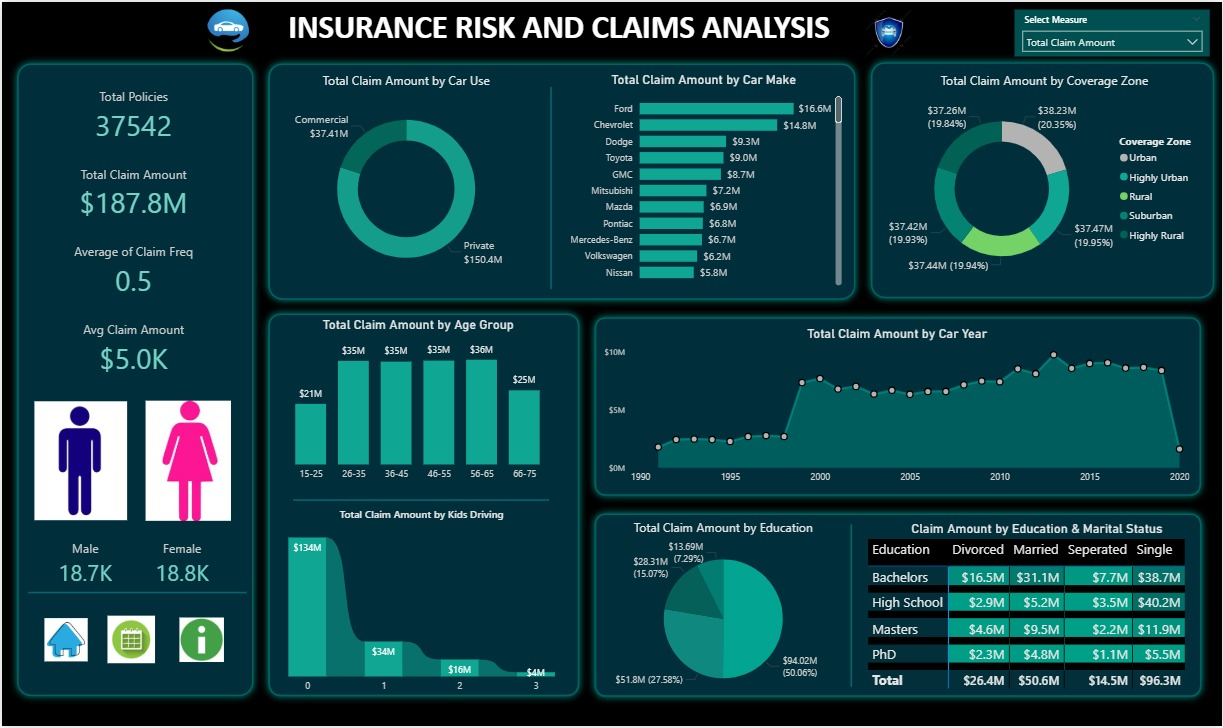

The dashboard page shown, as its layout file describes it:
{"tool":"powerbi","page":{"name":"Page 1","canvas":[1600,950],"ordinal":0},"visuals":[{"type":"textbox","box":[370,1.7,736.7,71.7],"z":0},{"type":"shape","box":[9.7,71.2,330,850],"z":1000},{"type":"cardVisual","fields":{"Data":["insurance_data_car.Total Policies","insurance_data_car.Total Claim Amount","Avg(insurance_data_car.Claim Freq)","insurance_data_car.Avg Claim Amount"]},"box":[37.9,95.6,270.5,400.4],"z":2000},{"type":"cardVisual","fields":{"Data":["insurance_data_car.Male Count","insurance_data_car.Female Count"]},"box":[50.5,685.3,245.3,101],"z":3000},{"type":"image","box":[37.9,517.6,131.7,167.7],"z":4000},{"type":"image","box":[178.5,517.6,131.7,167.7],"z":5000},{"type":"slicer","fields":{"Values":["Create Measure.Create Measure"]},"box":[1327.3,9,256.1,61.3],"z":6000},{"type":"shape","box":[339,70.3,789.9,330],"z":7000},{"type":"donutChart","fields":{"Y":["insurance_data_car.Total Claim Amount"],"Category":["insurance_data_car.Car Use"]},"box":[360.4,92.5,339.2,285.2],"z":8000},{"type":"clusteredBarChart","fields":{"Y":["insurance_data_car.Total Claim Amount"],"Category":["insurance_data_car.Car Make"]},"box":[734.3,92.5,372,285.2],"z":9000},{"type":"shape","box":[1129.4,69.4,470.3,329.6],"z":10000},{"type":"donutChart","fields":{"Y":["insurance_data_car.Total Claim Amount"],"Category":["insurance_data_car.Coverage Zone"]},"box":[1152.5,92.5,429.8,285.2],"z":11000},{"type":"shape","box":[339.2,398.9,427.9,522.3],"z":12000},{"type":"clusteredColumnChart","fields":{"Y":["insurance_data_car.Total Claim Amount"],"Category":["insurance_data_car.Age Group"]},"box":[357.1,413,376.9,223.6],"z":13000},{"type":"ribbonChart","fields":{"Y":["insurance_data_car.Total Claim Amount"],"Category":["insurance_data_car.Kids Driving"]},"box":[355.3,661.9,389.5,252.5],"z":14000},{"type":"shape","box":[766.5,404,815.2,254.3],"z":15000},{"type":"areaChart","fields":{"Y":["insurance_data_car.Total Claim Amount"],"Category":["insurance_data_car.Car Year"]},"box":[784.5,423.8,777.3,216.4],"z":16000},{"type":"shape","box":[767.4,660.5,816,260.7],"z":17000},{"type":"pieChart","fields":{"Y":["insurance_data_car.Total Claim Amount"],"Category":["insurance_data_car.Education"]},"box":[784.5,677.3,321.8,242.7],"z":18000},{"type":"pivotTable","title":"Claim Amount by Education & Marital Status","fields":{"Rows":["insurance_data_car.Education"],"Columns":["insurance_data_car.Marital Status"],"Values":["insurance_data_car.Total Claim Amount"]},"box":[1130.8,679.9,452.7,239.9],"z":19000},{"type":"shape","box":[694.3,111.8,50,265.1],"z":20000},{"type":"shape","box":[1098.2,685.5,30.9,212.7],"z":21000},{"type":"shape","box":[382.3,636.6,335.4,34.3],"z":22000},{"type":"shape","box":[34.3,757.4,286.7,34.3],"z":23000},{"type":"image","box":[50.5,800.7,66.7,72.1],"z":24000},{"type":"image","box":[129.8,800.7,79.4,72.1],"z":25000},{"type":"image","box":[227.2,800.7,68.5,72.1],"z":26000},{"type":"image","box":[226.7,5,140,65],"z":26001},{"type":"image","box":[1098.3,1.7,130,76.7],"z":26002}]}

Visuals, with their boxes in screenshot pixels (x1, y1, x2, y2), scaled from the page's 1600x950 canvas onto the 1223x728 screenshot:
textbox: box(283, 1, 846, 56)
shape: box(7, 55, 260, 706)
cardVisual - insurance_data_car.Total Policies x insurance_data_car.Total Claim Amount: box(29, 73, 236, 380)
cardVisual - insurance_data_car.Male Count x insurance_data_car.Female Count: box(39, 525, 226, 603)
image: box(29, 397, 130, 525)
image: box(136, 397, 237, 525)
slicer - Create Measure.Create Measure: box(1015, 7, 1210, 54)
shape: box(259, 54, 863, 307)
donutChart - insurance_data_car.Total Claim Amount x insurance_data_car.Car Use: box(275, 71, 535, 289)
clusteredBarChart - insurance_data_car.Total Claim Amount x insurance_data_car.Car Make: box(561, 71, 846, 289)
shape: box(863, 53, 1222, 306)
donutChart - insurance_data_car.Total Claim Amount x insurance_data_car.Coverage Zone: box(881, 71, 1209, 289)
shape: box(259, 306, 586, 706)
clusteredColumnChart - insurance_data_car.Total Claim Amount x insurance_data_car.Age Group: box(273, 316, 561, 488)
ribbonChart - insurance_data_car.Total Claim Amount x insurance_data_car.Kids Driving: box(272, 507, 569, 701)
shape: box(586, 310, 1209, 504)
areaChart - insurance_data_car.Total Claim Amount x insurance_data_car.Car Year: box(600, 325, 1194, 491)
shape: box(587, 506, 1210, 706)
pieChart - insurance_data_car.Total Claim Amount x insurance_data_car.Education: box(600, 519, 846, 705)
"Claim Amount by Education & Marital Status" pivotTable: box(864, 521, 1210, 705)
shape: box(531, 86, 569, 289)
shape: box(839, 525, 863, 688)
shape: box(292, 488, 549, 514)
shape: box(26, 580, 245, 607)
image: box(39, 614, 90, 669)
image: box(99, 614, 160, 669)
image: box(174, 614, 226, 669)
image: box(173, 4, 280, 54)
image: box(840, 1, 939, 60)
